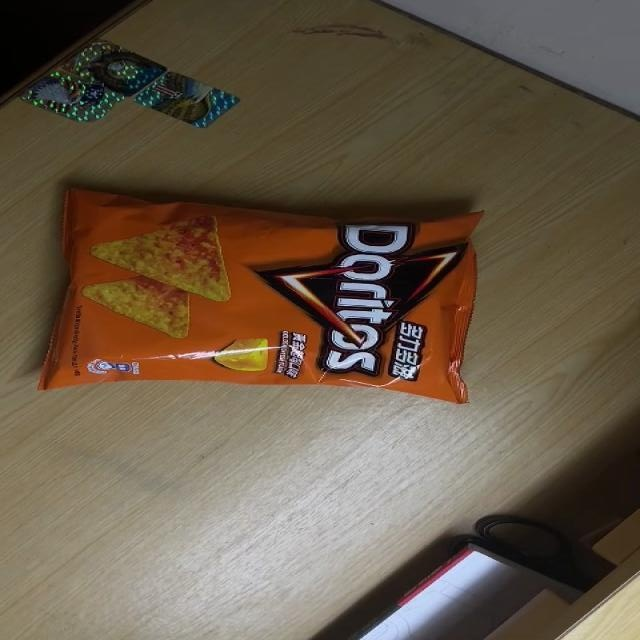Doritos: (33, 184, 489, 404)
